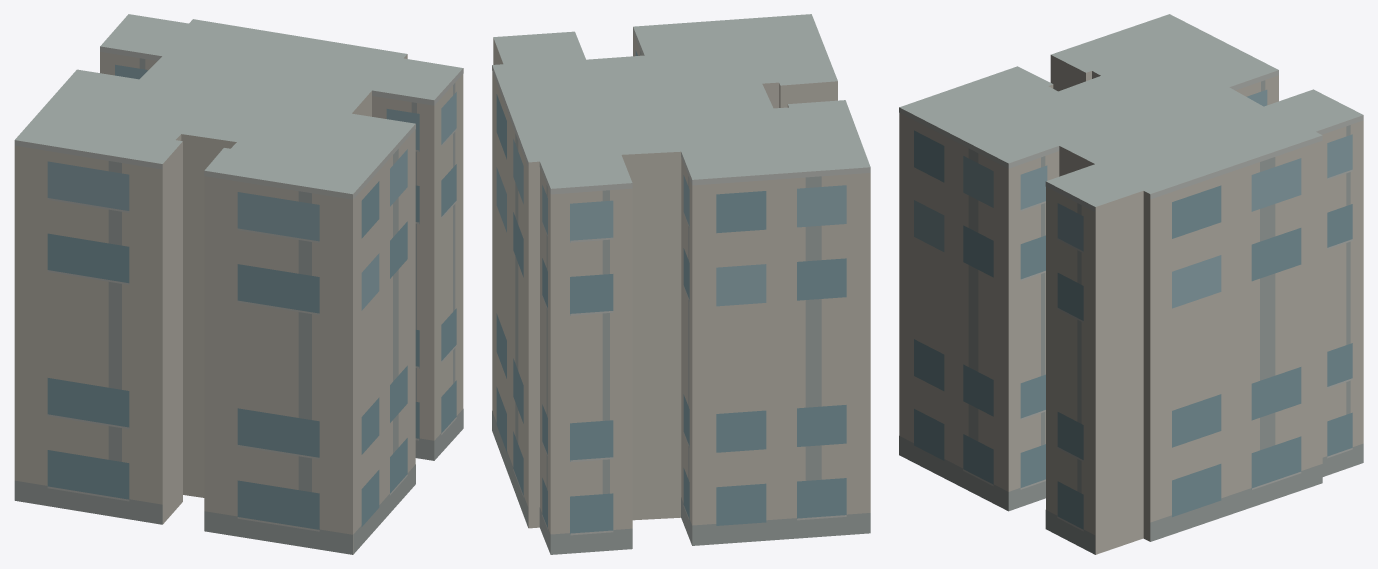
The model's file is survey-upis-32849725.glb.
The picture shows the model from 3 angles, left to right: view 1: azimuth 30°, elevation 25°; view 2: azimuth 150°, elevation 25°; view 3: azimuth 270°, elevation 25°; orthographic projection. The views are drawn at different scales.
Visible parts, largest first — view 1: survey-upis-32849725.tmp; view 2: survey-upis-32849725.tmp; view 3: survey-upis-32849725.tmp.
Part boxes in pixels (<box>): survey-upis-32849725.tmp: <box>14,14,463,554</box>; survey-upis-32849725.tmp: <box>492,14,870,554</box>; survey-upis-32849725.tmp: <box>899,14,1363,554</box>.
Size of the model in its own units: 19.06 by 16 by 19.37.
